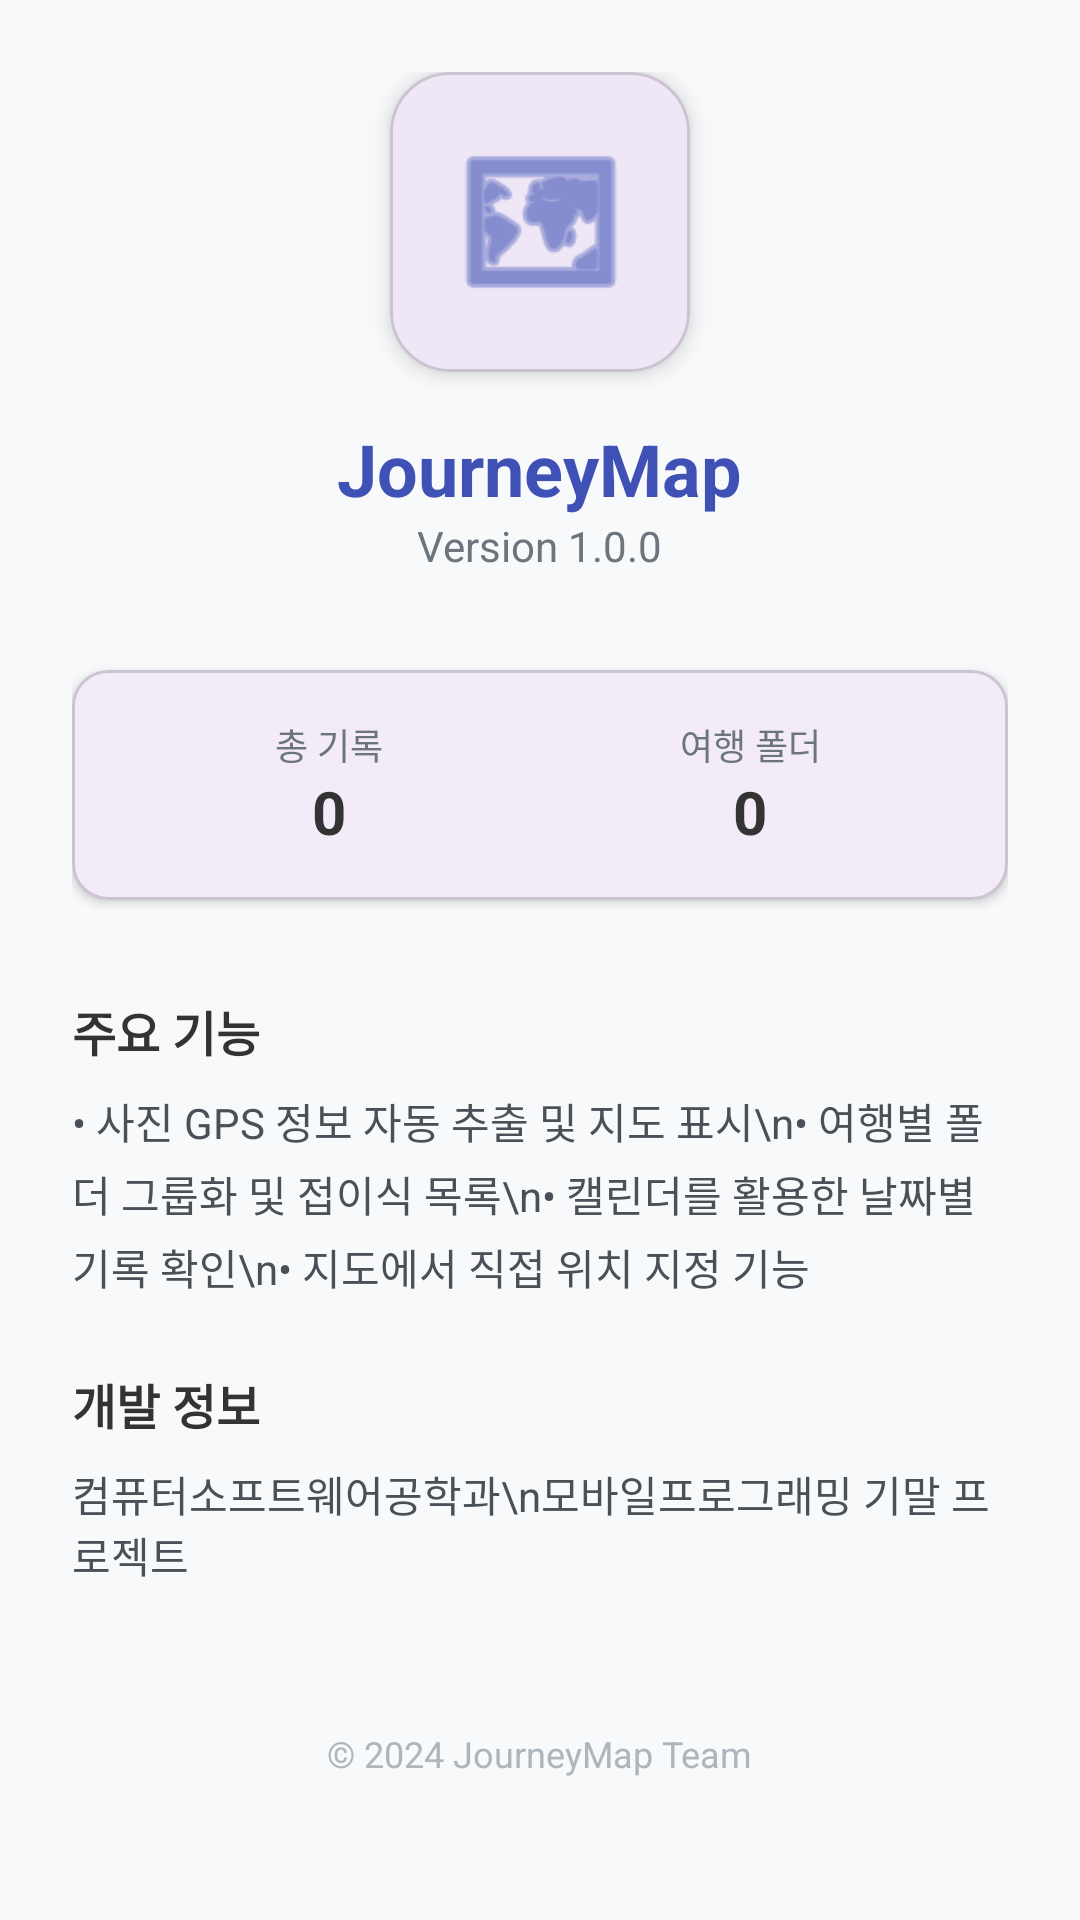

Icon click points for this 1080*1920 phone screenshot, format (x,y):
mapmode: (540,222)
